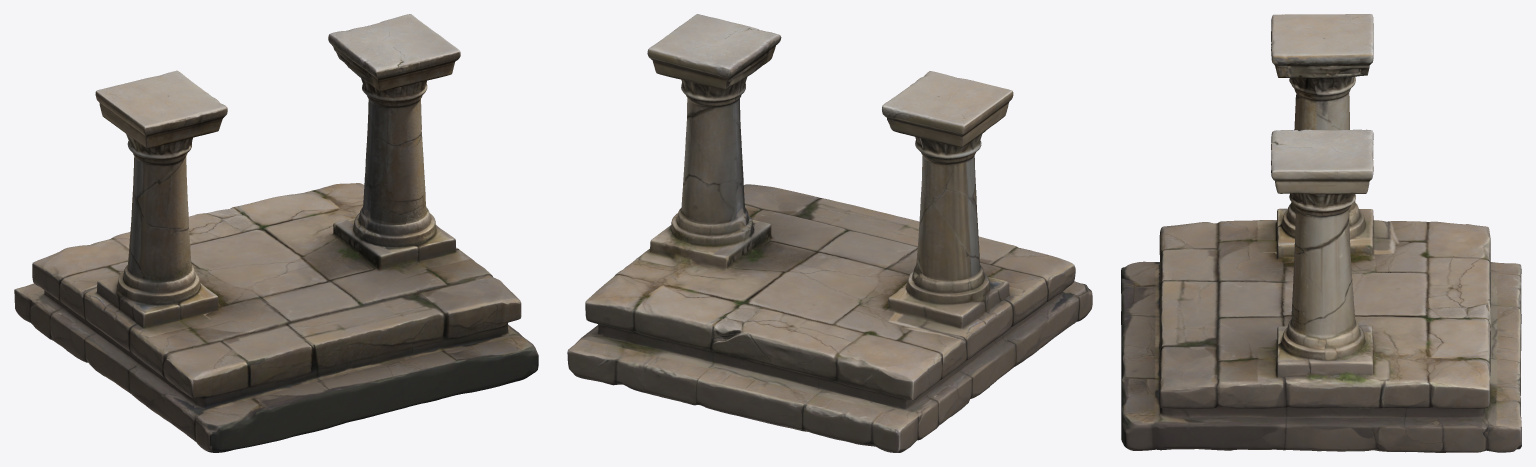
Rendered from Meshy_AI_Ancient_Platform_0310034813_texture.glb.
The picture shows the model from 3 angles, left to right: view 1: azimuth 30°, elevation 25°; view 2: azimuth 150°, elevation 25°; view 3: azimuth 270°, elevation 25°; orthographic projection.
Bounding box in the file's own units: 1.97 × 1.55 × 2.
1 material, 1 textured.
